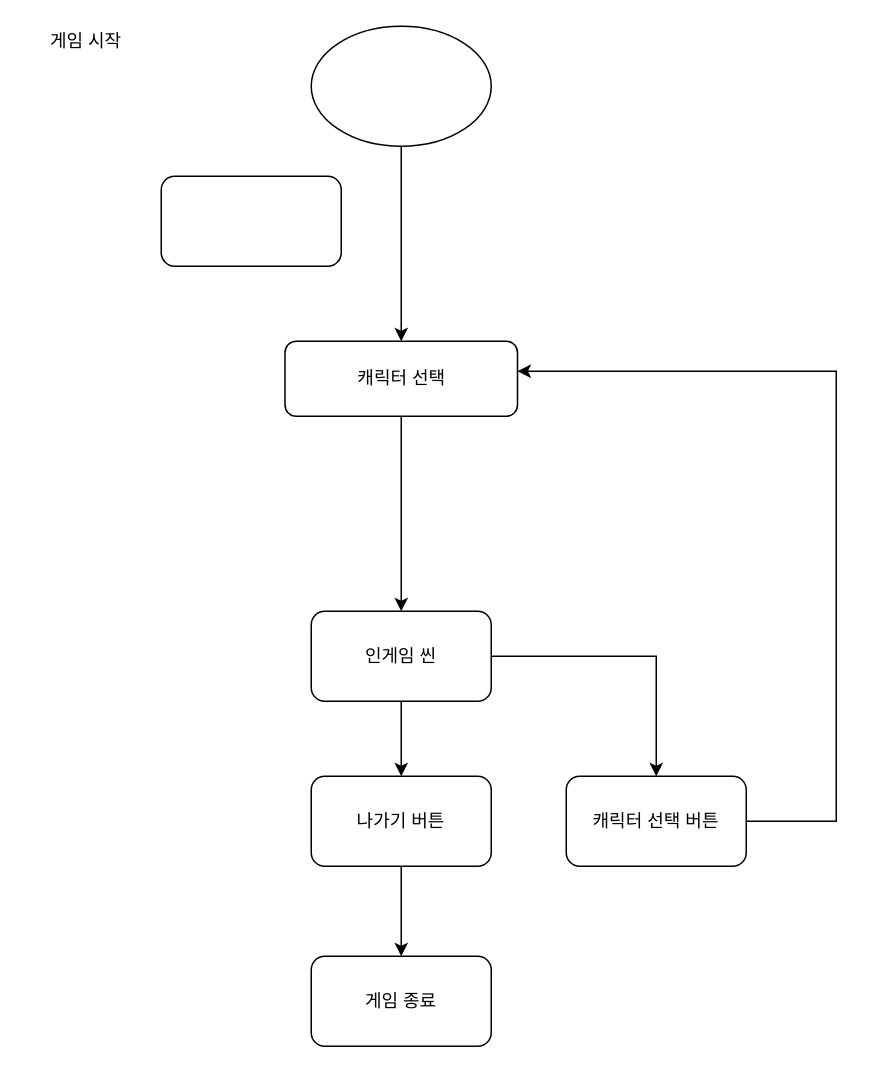
This 875x1073 diagram has some shape labels left out. Here are the shapes that lost their labels. From the top down, the centre of each, then its label:
At [400,85]: "로그인".
At [250,220]: "로딩창 : 매 씬이 변할때마다 등장".
